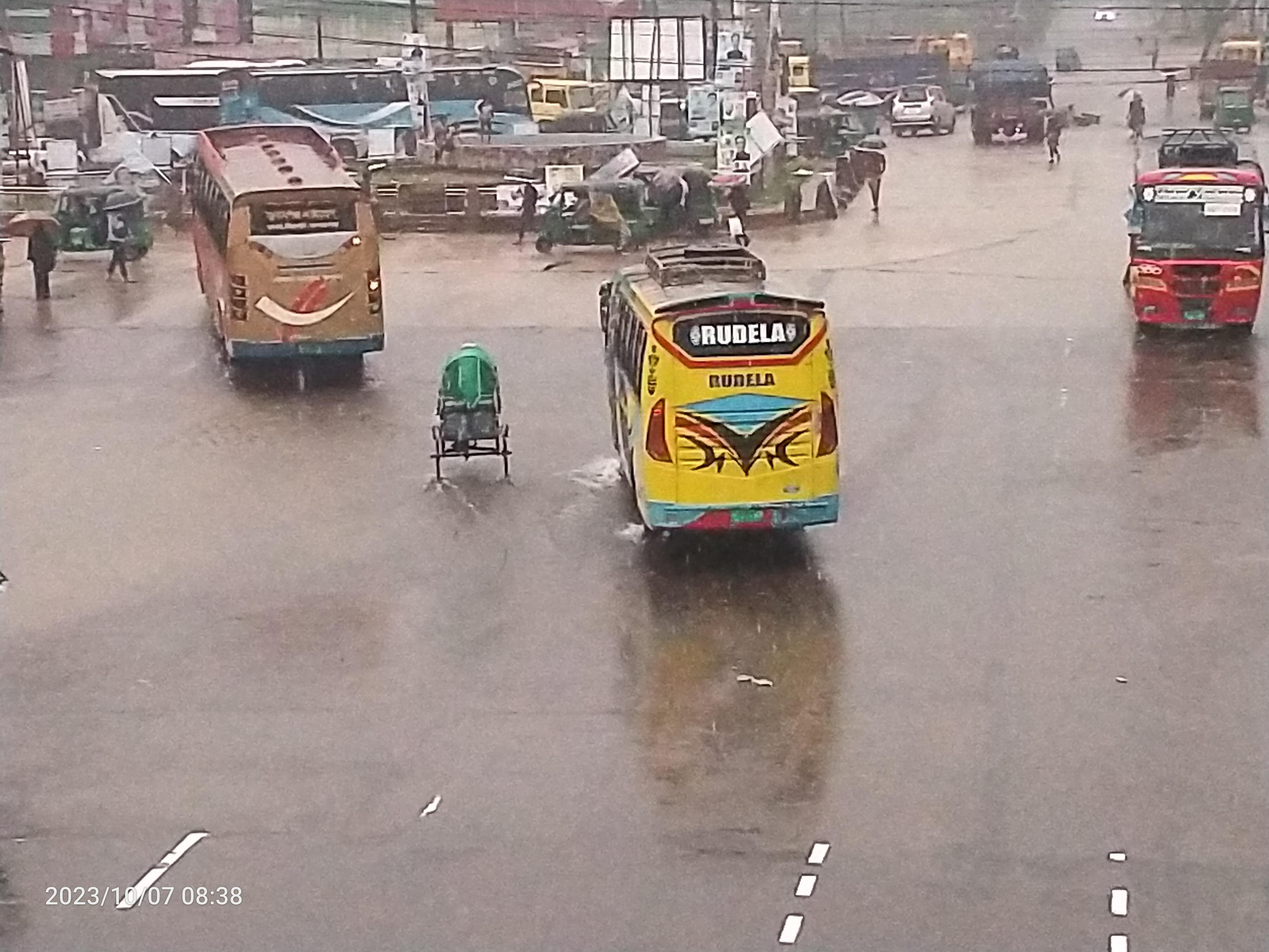Bus: (571, 231, 904, 591), (169, 113, 422, 405), (195, 33, 563, 176), (1109, 107, 1269, 374)
Car: (399, 326, 541, 547), (884, 62, 962, 155)
Truck: (956, 36, 1059, 160), (523, 47, 612, 155)
